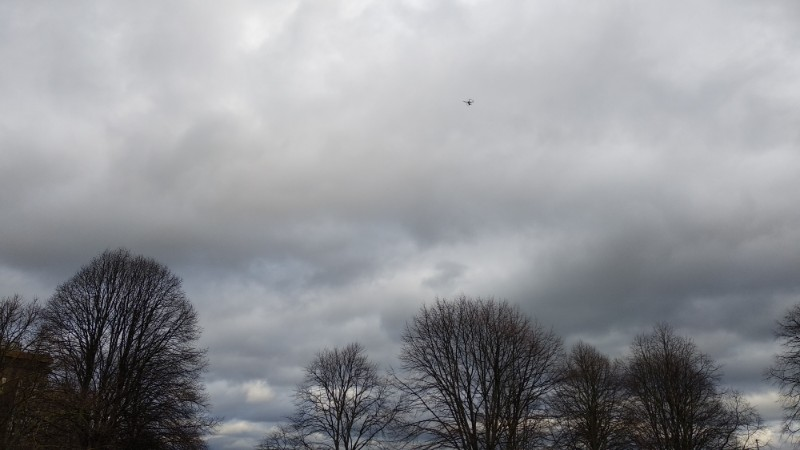drone: (463, 97, 475, 107)
